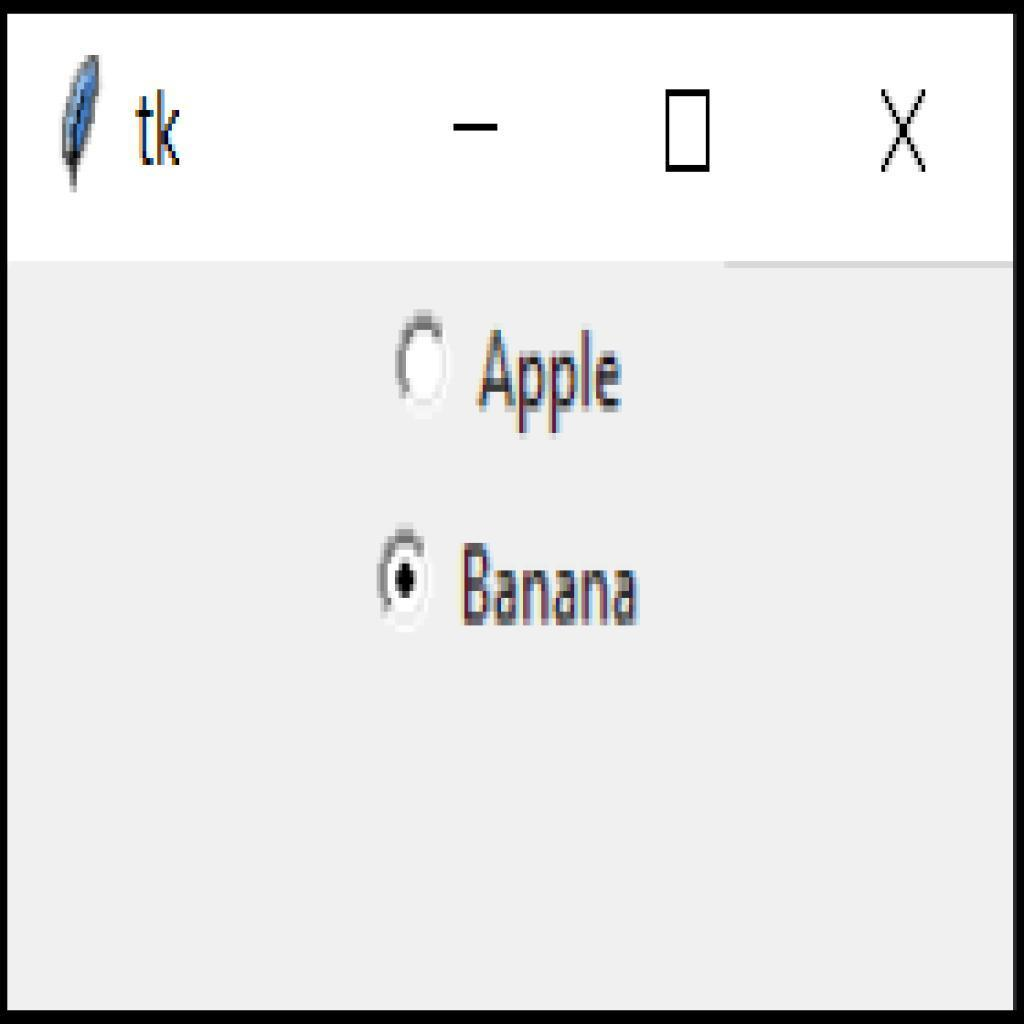label: (453, 541, 650, 641), (480, 321, 631, 434)
radio: (389, 312, 460, 428), (376, 530, 438, 634)
